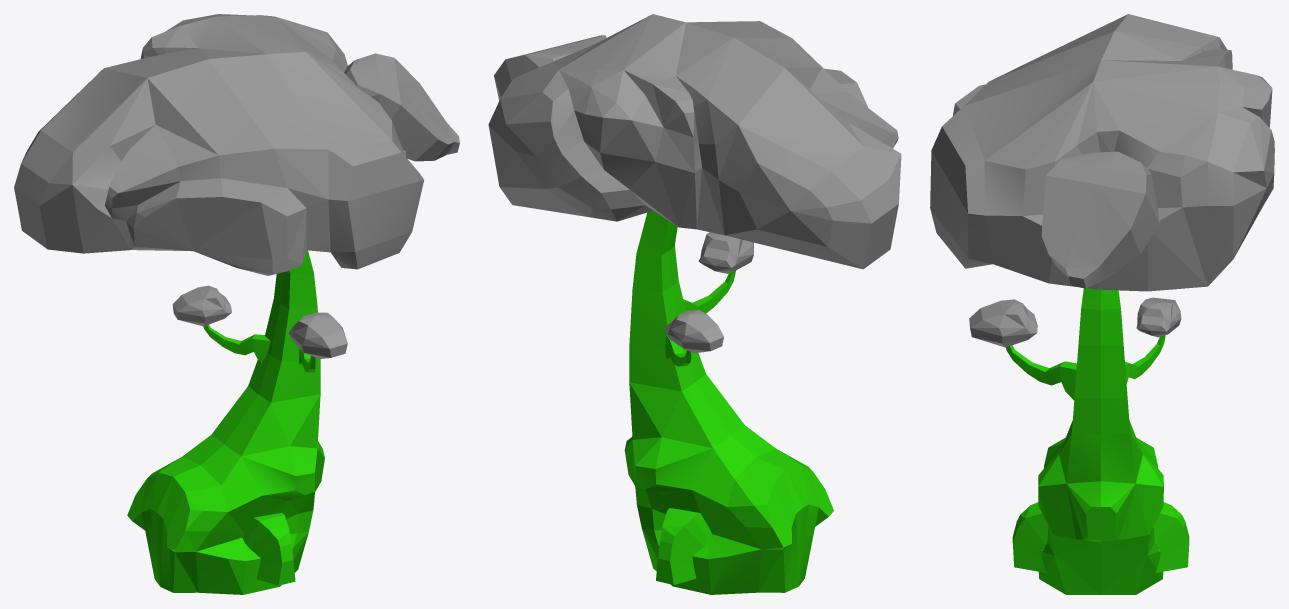
Rendered from L_tree.FBX.
The picture shows the model from 3 angles, left to right: view 1: azimuth 30°, elevation 25°; view 2: azimuth 150°, elevation 25°; view 3: azimuth 270°, elevation 25°; orthographic projection. The views are drawn at different scales.
Parts seen in each view (by area): view 1: FOL_Foliage_01, 对象1116; view 2: FOL_Foliage_01, 对象1116; view 3: FOL_Foliage_01, 对象1116.
Part boxes in pixels (x1=…): FOL_Foliage_01: x1=14, y1=14, x2=459, y2=358; 对象1116: x1=127, y1=250, x2=324, y2=594; FOL_Foliage_01: x1=488, y1=14, x2=901, y2=353; 对象1116: x1=624, y1=210, x2=833, y2=594; FOL_Foliage_01: x1=930, y1=14, x2=1274, y2=347; 对象1116: x1=1005, y1=288, x2=1189, y2=594.
Size of the model in its own units: 1241 by 1520 by 895.
